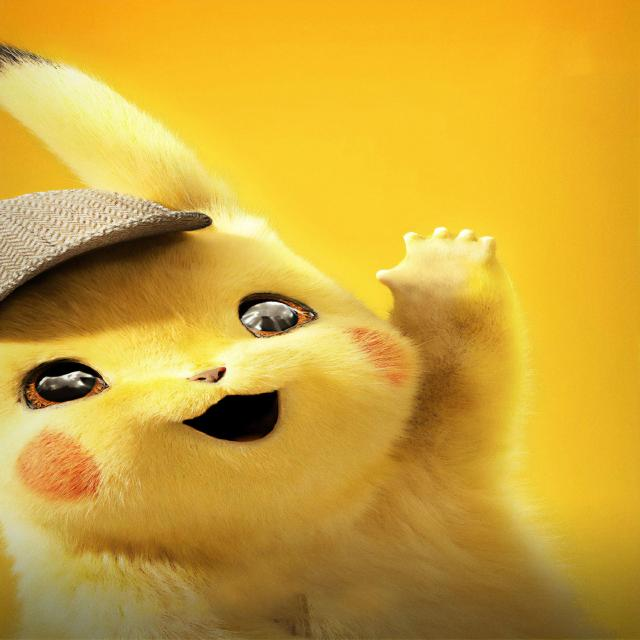pikachu: (4, 43, 519, 638)
